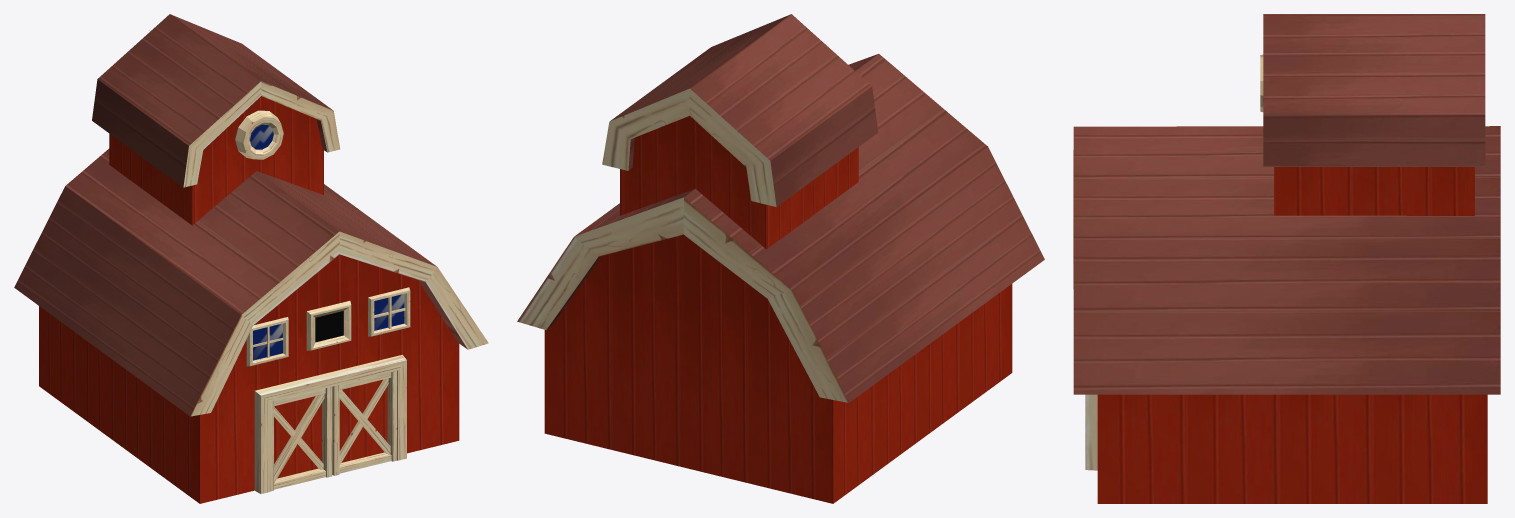
The model's file is ambar2.fbx.
3 views of the same model, side by side, from view 1: azimuth 30°, elevation 25°; view 2: azimuth 150°, elevation 25°; view 3: azimuth 270°, elevation 25° (orthographic). The views are drawn at different scales.
Parts seen in each view (by area): view 1: Ambar_02; view 2: Ambar_02; view 3: Ambar_02.
Part boxes in pixels (bbox=[...]): Ambar_02: bbox=[14, 14, 488, 503]; Ambar_02: bbox=[517, 14, 1044, 503]; Ambar_02: bbox=[1073, 14, 1500, 503].
Size of the model in its own units: 4771 by 5210 by 4877.
1 material, 1 textured.
